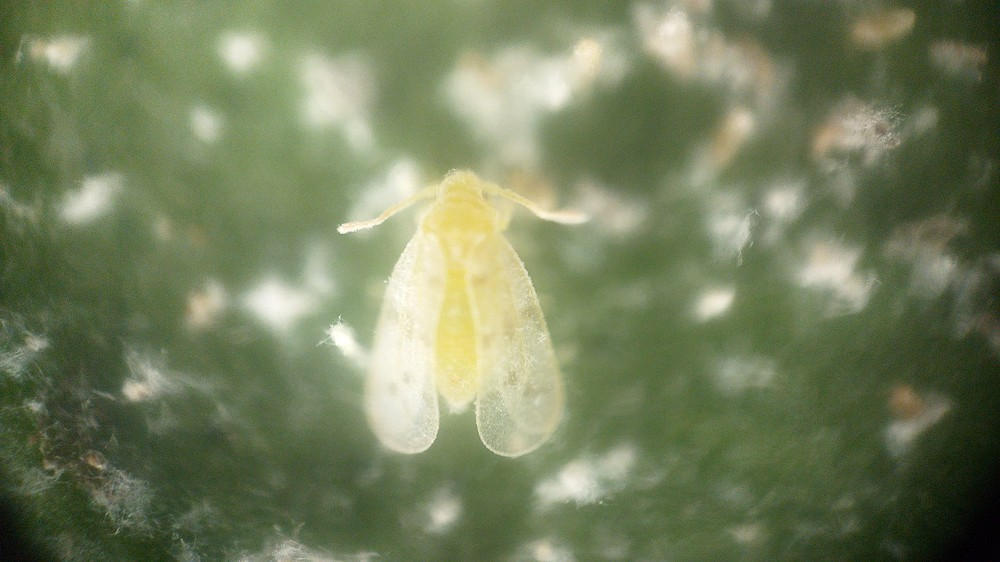Mosca Blanca: (325, 157, 604, 464)
